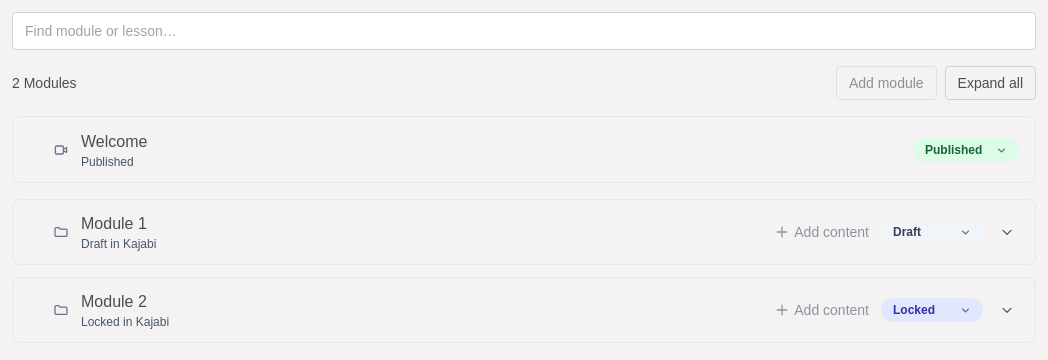
Test: BuilderOutline › finds modules and lessons by search, opening what contains a match and hiding the rest
The width and height of the screenshot is (1048, 360).
Type "quill" into the search field labelled "Find module or lesson" at x=524, y=31, box 12,12 -> 1036,50
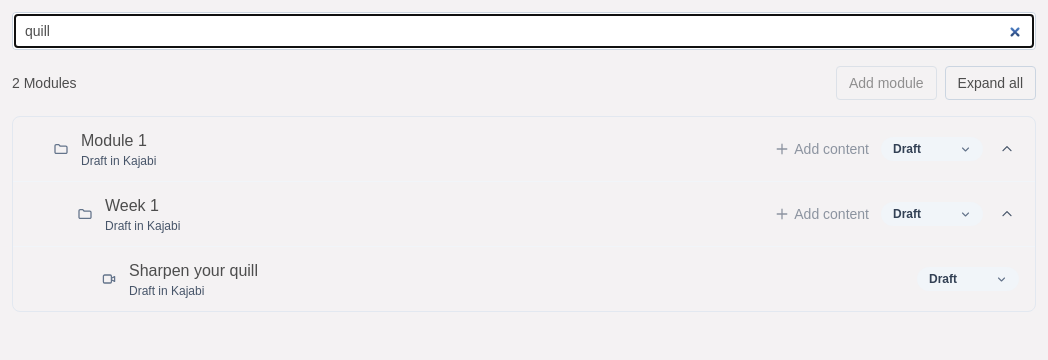
Now the text "Sharpen your quill" is shown, box 129,262 -> 258,279
Now the text "Module 2" is gone
Now the text "Welcome" is gone
